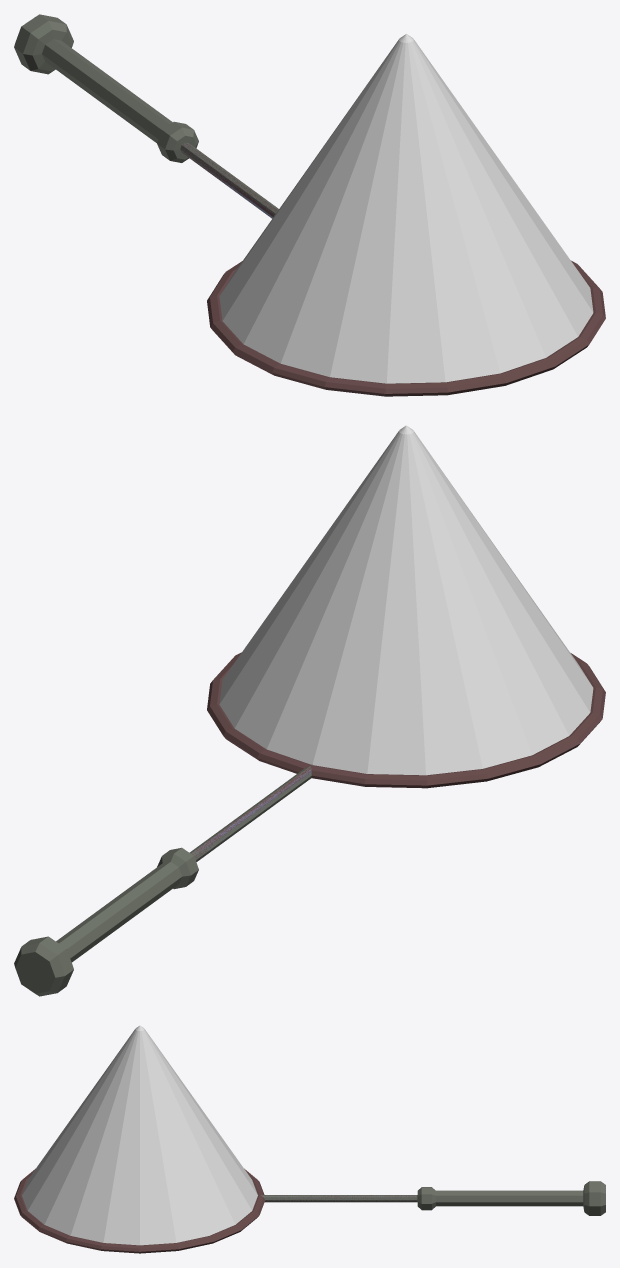
The model's file is BugNets.fbx.
The picture shows the model from 3 angles, top to bottom: view 1: azimuth 30°, elevation 25°; view 2: azimuth 150°, elevation 25°; view 3: azimuth 270°, elevation 25°; orthographic projection. The views are drawn at different scales.
Visible parts, largest first — view 1: Net, Handle, Ring, Wide; view 2: Net, Handle, Ring, Wide; view 3: Net, Handle, Ring.
Boxes of the visible parts, <box> form: Net: <box>219,34,593,383</box>; Handle: <box>14,14,278,218</box>; Ring: <box>207,260,605,396</box>; Wide: <box>181,143,277,216</box>; Net: <box>219,425,593,775</box>; Handle: <box>14,764,312,996</box>; Ring: <box>207,652,605,788</box>; Wide: <box>192,766,311,861</box>; Net: <box>22,1025,257,1245</box>; Handle: <box>260,1181,605,1215</box>; Ring: <box>14,1168,265,1253</box>.
Bounding box in the file's own units: 34.39 × 28.62 × 80.79.
